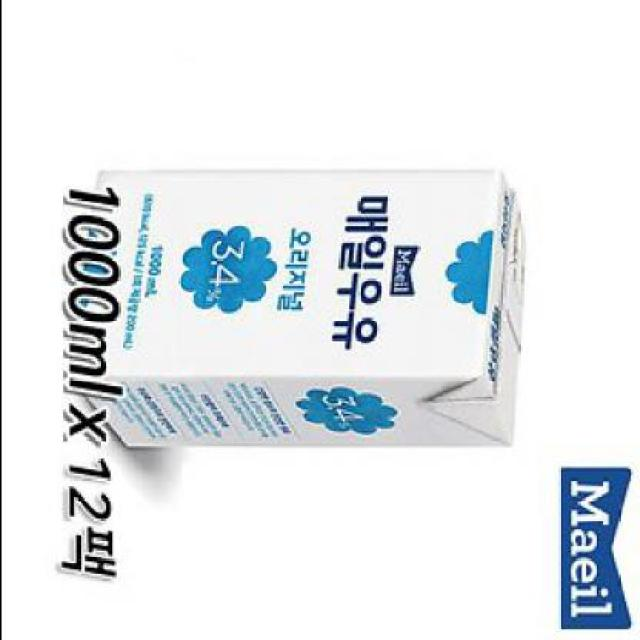tetra: (132, 148, 557, 477)
